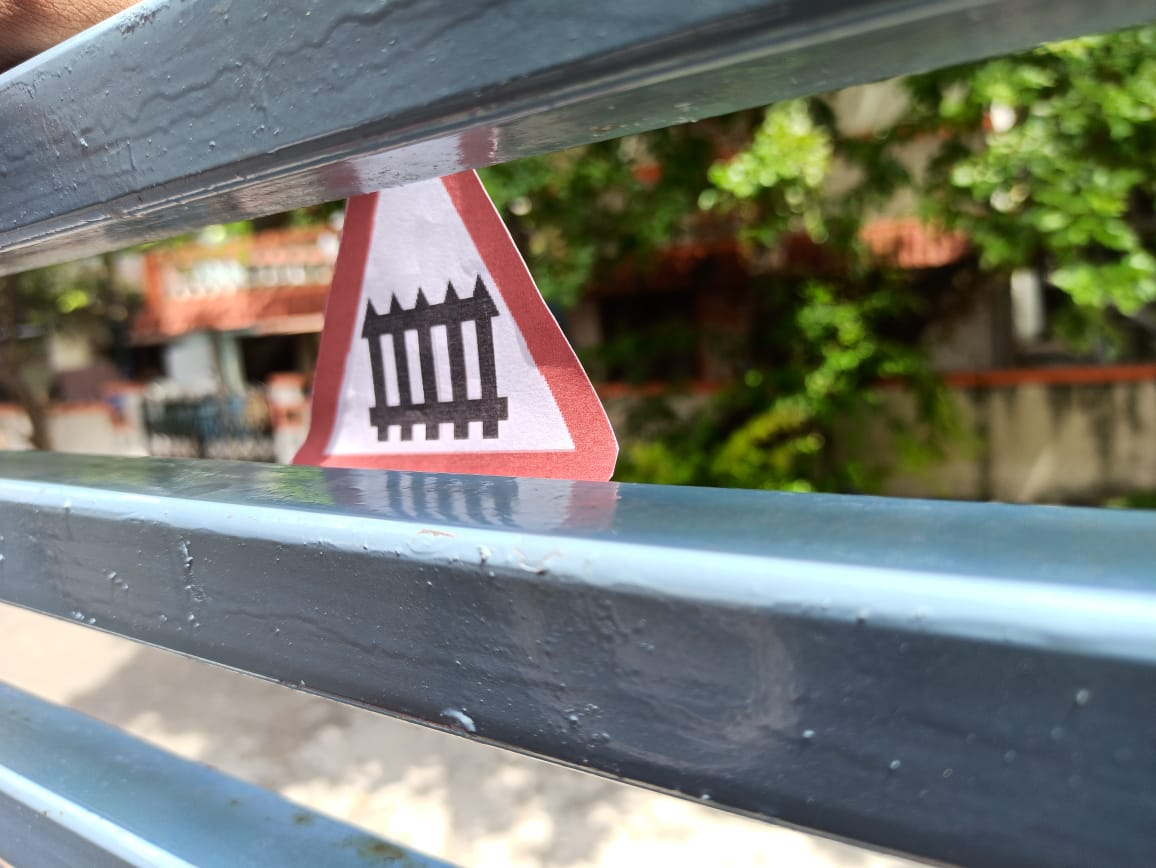GUARDED LEVEL CROSSING: (289, 128, 630, 493)
